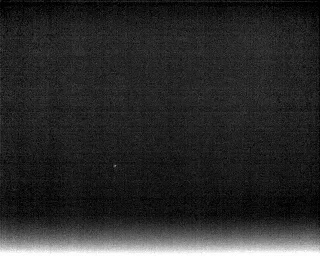AIRPLANE: (110, 161, 119, 171)
